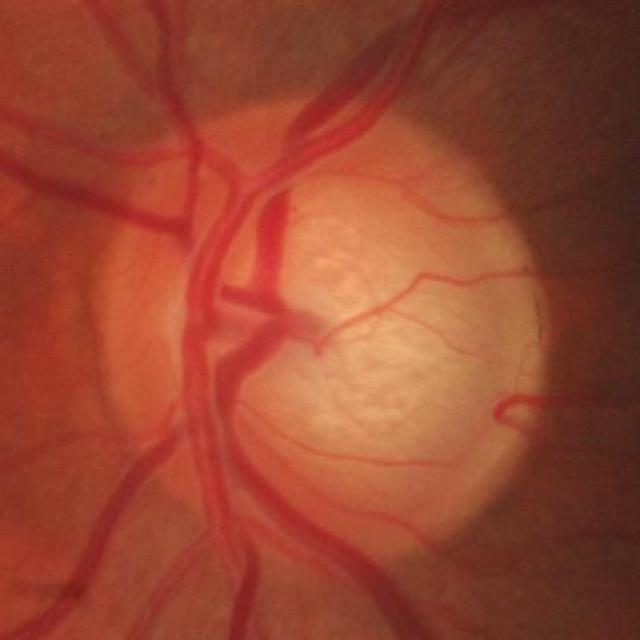OC: (260, 206, 467, 450)
OD: (91, 106, 540, 550)
